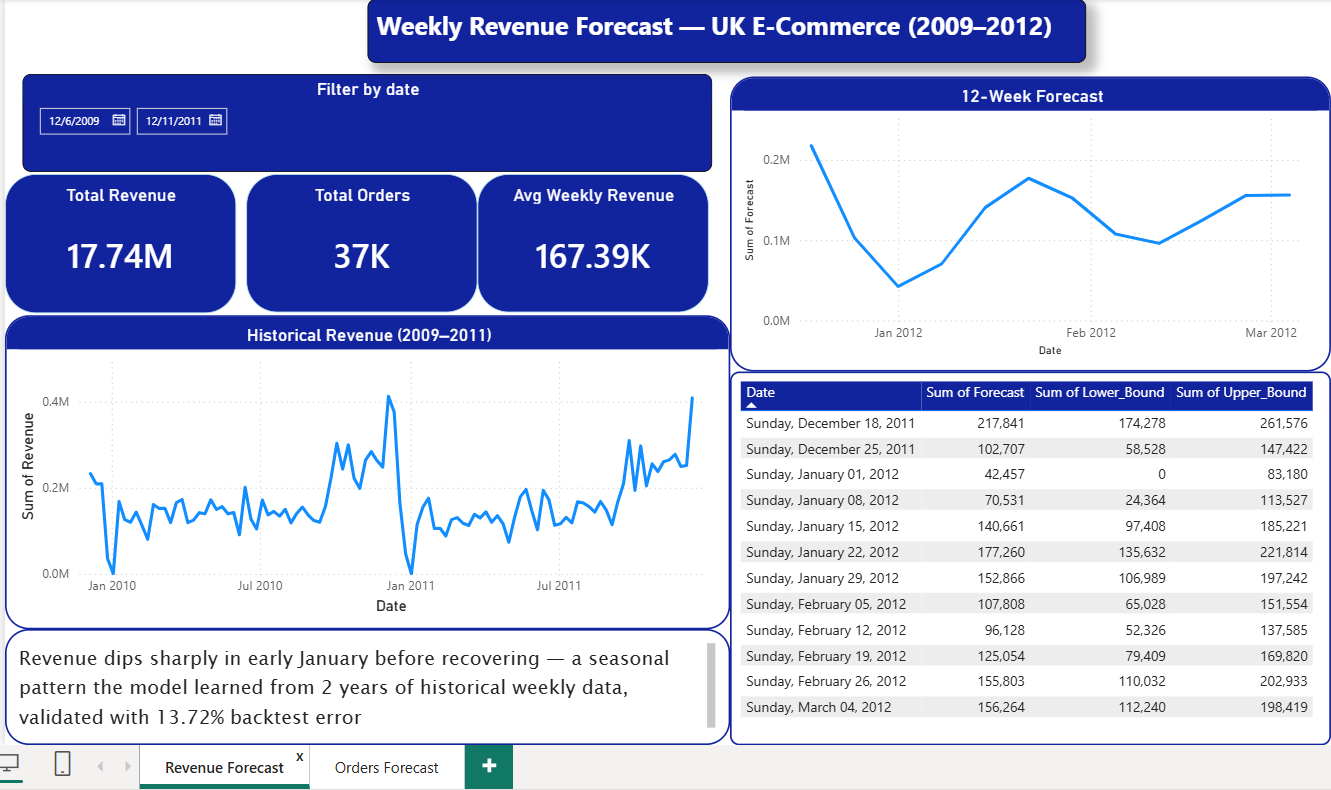

The page's visual inventory and layout, read from the dashboard file:
{"tool":"powerbi","page":{"name":"Revenue Forecast","canvas":[1280,720],"ordinal":0},"visuals":[{"type":"cardVisual","title":"Total Revenue","fields":{"Data":["weekly_historical_data.Total Revenue"]},"box":[0,169,223,134],"z":0},{"type":"cardVisual","title":"Total Orders","fields":{"Data":["weekly_historical_data.Total Orders"]},"box":[232.8,169,223.2,133.9],"z":1000},{"type":"cardVisual","title":"Avg Weekly Revenue","fields":{"Data":["weekly_historical_data.Avg Weekly Revenue"]},"box":[456,169,223.2,133.9],"z":2000},{"type":"lineChart","title":"Historical Revenue (2009–2011)","fields":{"Y":["Sum(weekly_historical_data.Revenue)"],"Category":["weekly_historical_data.Date"]},"box":[0,305.2,699.7,302.8],"z":3000},{"type":"lineChart","title":"12-Week Forecast","fields":{"Y":["Sum(weekly_revenue_forecast.Forecast)"],"Category":["weekly_revenue_forecast.Date"]},"box":[699.7,74.8,580.3,284.7],"z":4000},{"type":"textbox","box":[0,608,699.7,112.2],"z":5000},{"type":"tableEx","fields":{"Values":["weekly_revenue_forecast.Date","Sum(weekly_revenue_forecast.Forecast)","Sum(weekly_revenue_forecast.Lower_Bound)","Sum(weekly_revenue_forecast.Upper_Bound)"]},"box":[699.7,359.5,580.3,360.7],"z":6000},{"type":"slicer","title":"Filter by date","fields":{"Values":["weekly_historical_data.Date"]},"box":[16.9,72,666,94.1],"z":7000},{"type":"textbox","box":[349.9,0,693.7,61.5],"z":8000}]}

Visuals, with their boxes in screenshot pixels (x1, y1, x2, y2):
"Total Revenue" cardVisual: <region>10, 173, 239, 311</region>
"Total Orders" cardVisual: <region>249, 173, 478, 311</region>
"Avg Weekly Revenue" cardVisual: <region>478, 173, 707, 311</region>
"Historical Revenue (2009–2011)" lineChart: <region>10, 313, 728, 623</region>
"12-Week Forecast" lineChart: <region>728, 77, 1323, 369</region>
textbox: <region>10, 623, 728, 739</region>
tableEx - weekly_revenue_forecast.Date x Sum(weekly_revenue_forecast.Forecast): <region>728, 369, 1323, 739</region>
"Filter by date" slicer: <region>28, 74, 711, 170</region>
textbox: <region>369, 0, 1081, 63</region>
